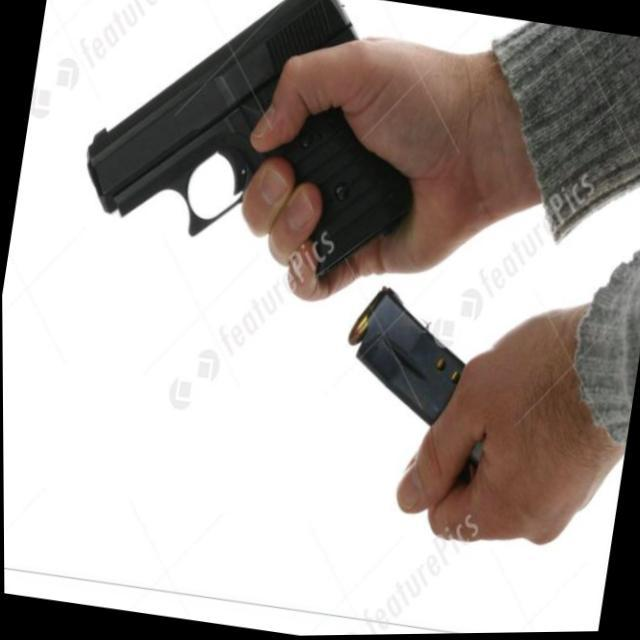weapon: (71, 0, 444, 294), (328, 280, 508, 491)
